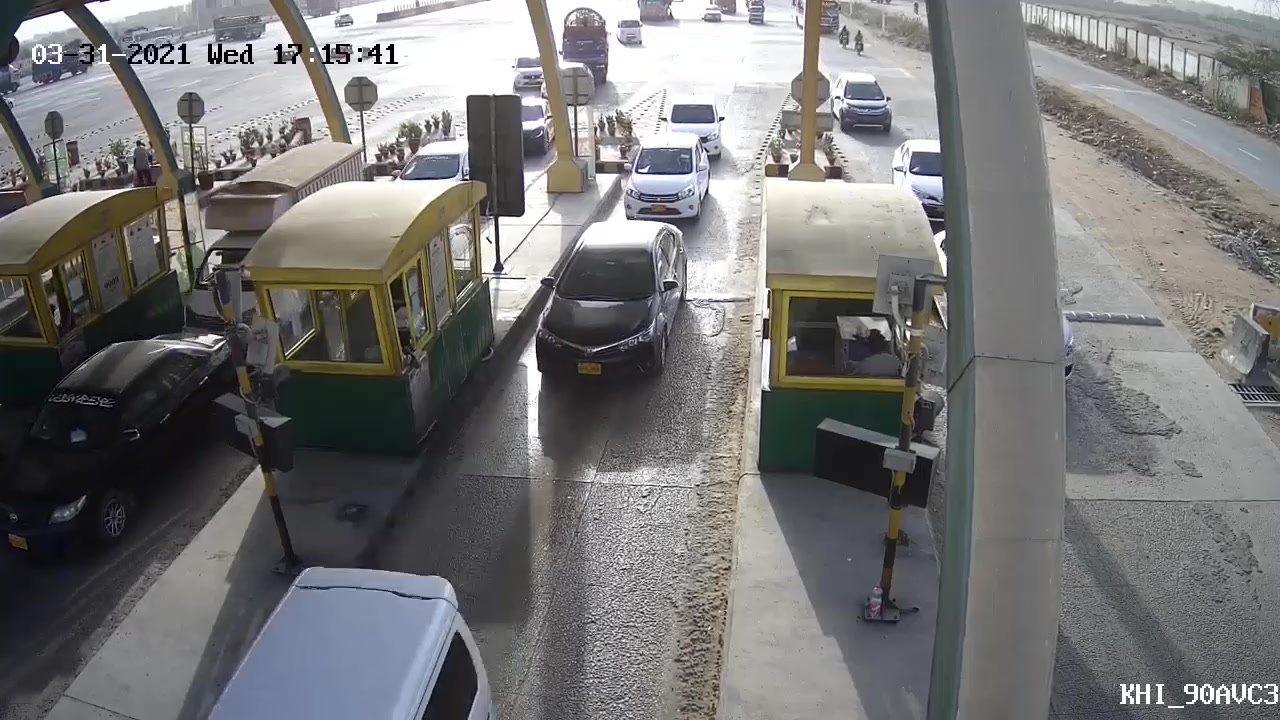F1: (535, 216, 695, 374), (626, 137, 719, 232)
